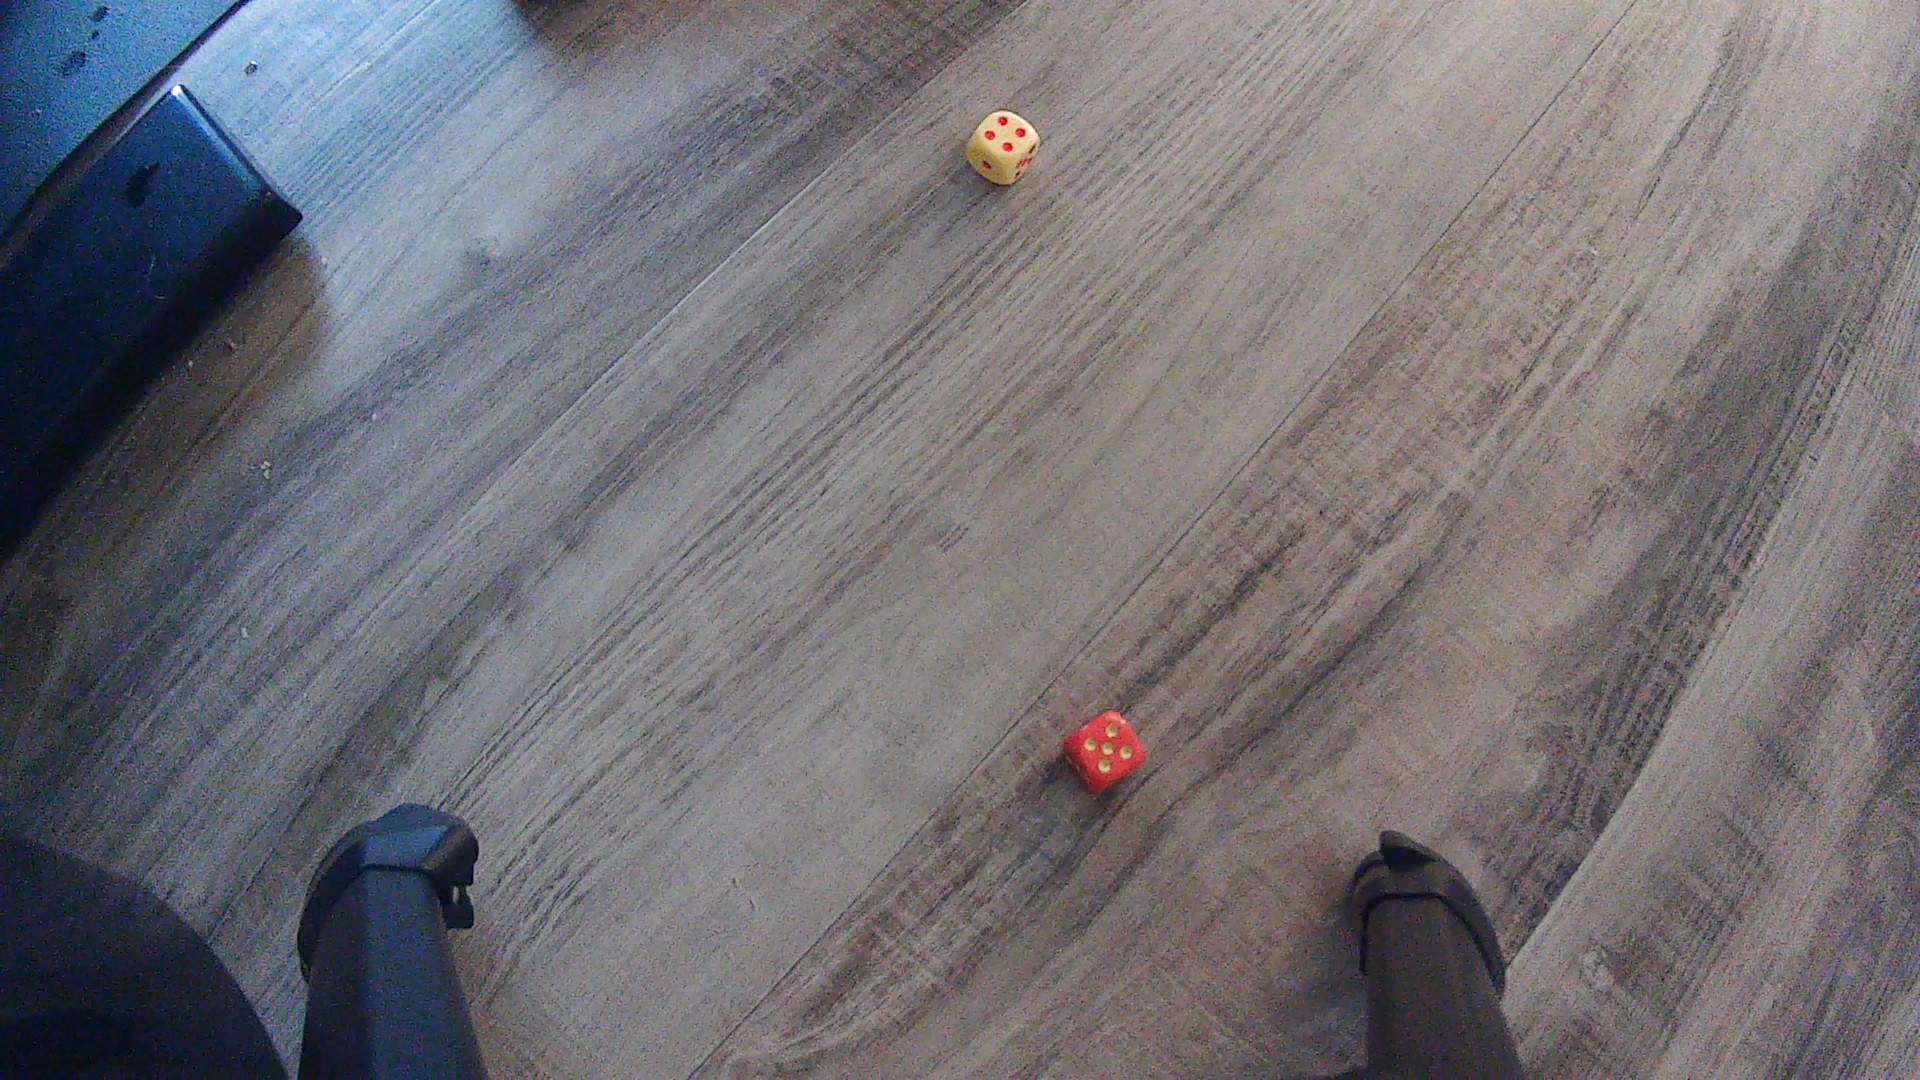die: (1060, 708, 1149, 796), (963, 107, 1042, 189)
